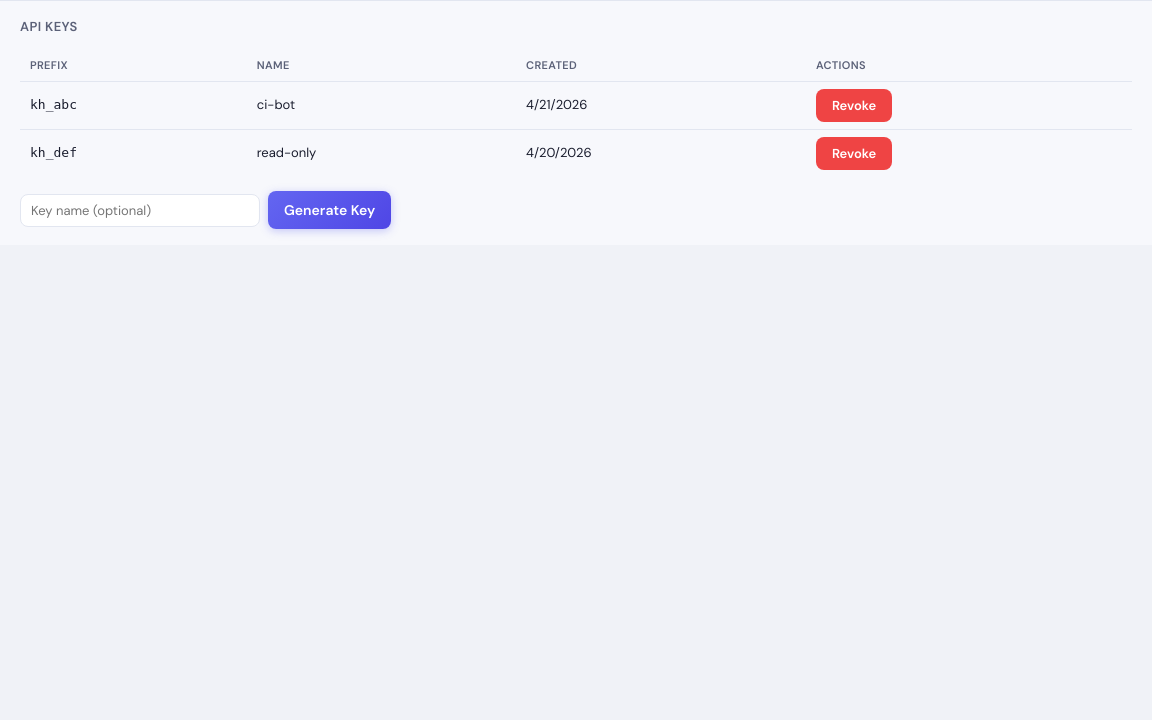
Scenario: ApiKeyPanel › confirm revoke removes key from list
The image size is (1152, 720).
Expected: the text "kh_abc" is shown, [30, 98, 77, 112]
Click the button "Revoke" in the row of "kh_abc".
click(854, 106)  # box [816, 89, 892, 122]
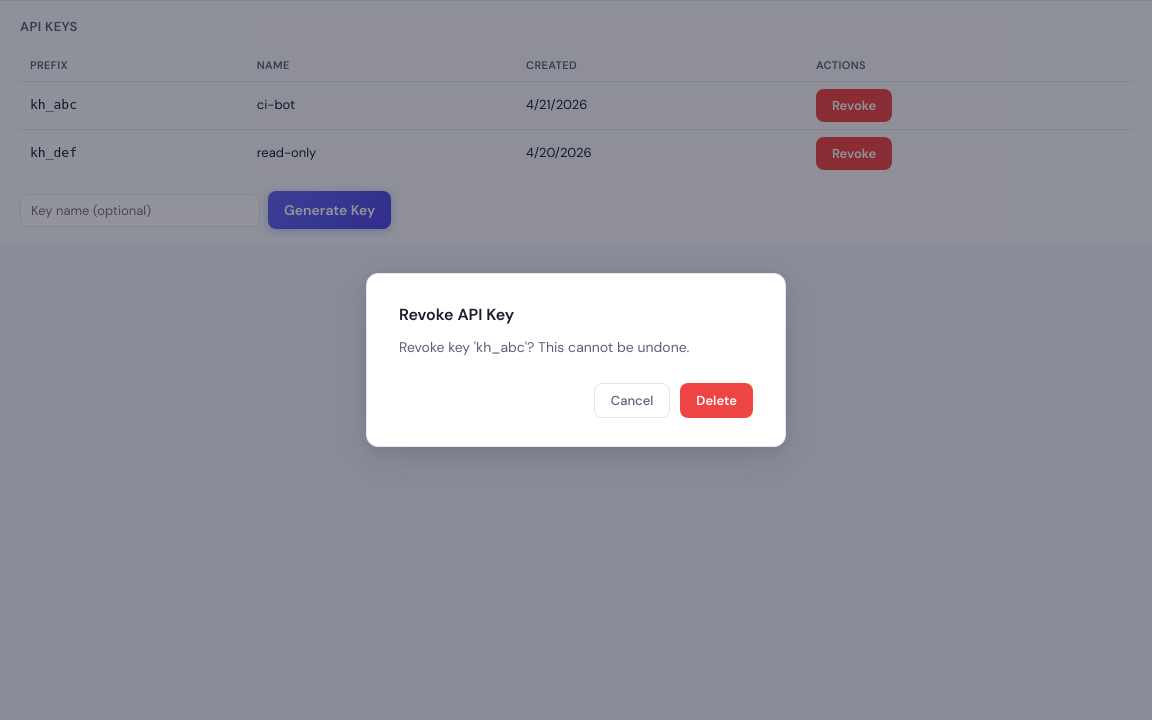
Now the element with class "confirm-dialog" is shown, box [366, 273, 786, 447]
Note: Click the Delete button in the confirm dialog
Click the button with class "btn-danger" showing "Delete".
click(717, 401)  # box [680, 383, 753, 418]
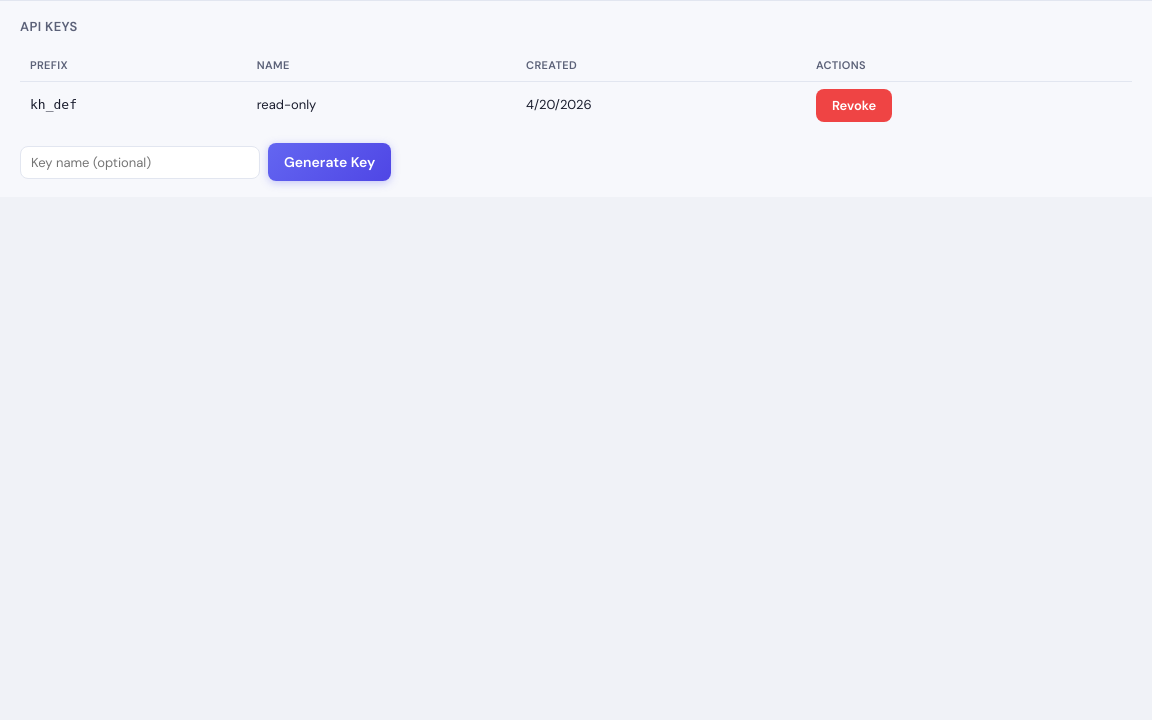
Expected: the text "kh_def" is shown, [30, 98, 77, 112]
Now the text "kh_abc" is gone
